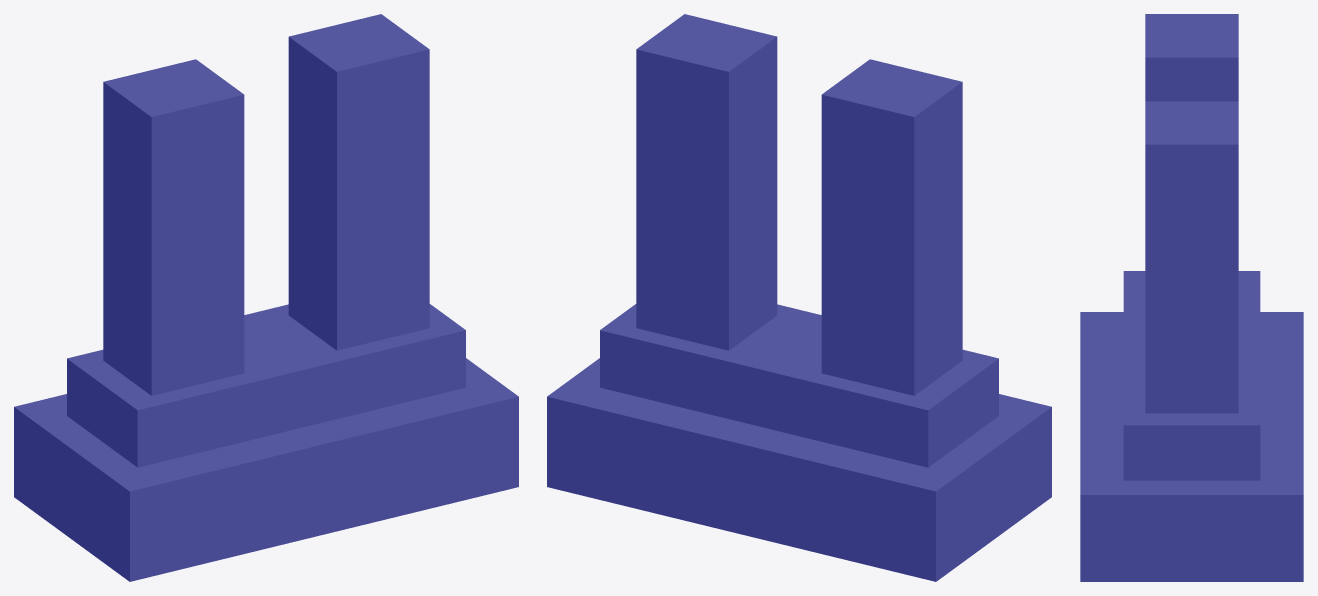
3 renders of one model, left to right at view 1: azimuth 30°, elevation 25°; view 2: azimuth 150°, elevation 25°; view 3: azimuth 270°, elevation 25°, orthographic. The views are drawn at different scales.
Parts seen in each view (by area): view 1: building_0000000000000004; view 2: building_0000000000000004; view 3: building_0000000000000004.
Boxes of the visible parts, bbox=[...] form: building_0000000000000004: bbox=[14, 14, 518, 581]; building_0000000000000004: bbox=[547, 14, 1051, 581]; building_0000000000000004: bbox=[1080, 14, 1303, 581].
Bounding box in the file's own units: 344 × 360 × 178.
